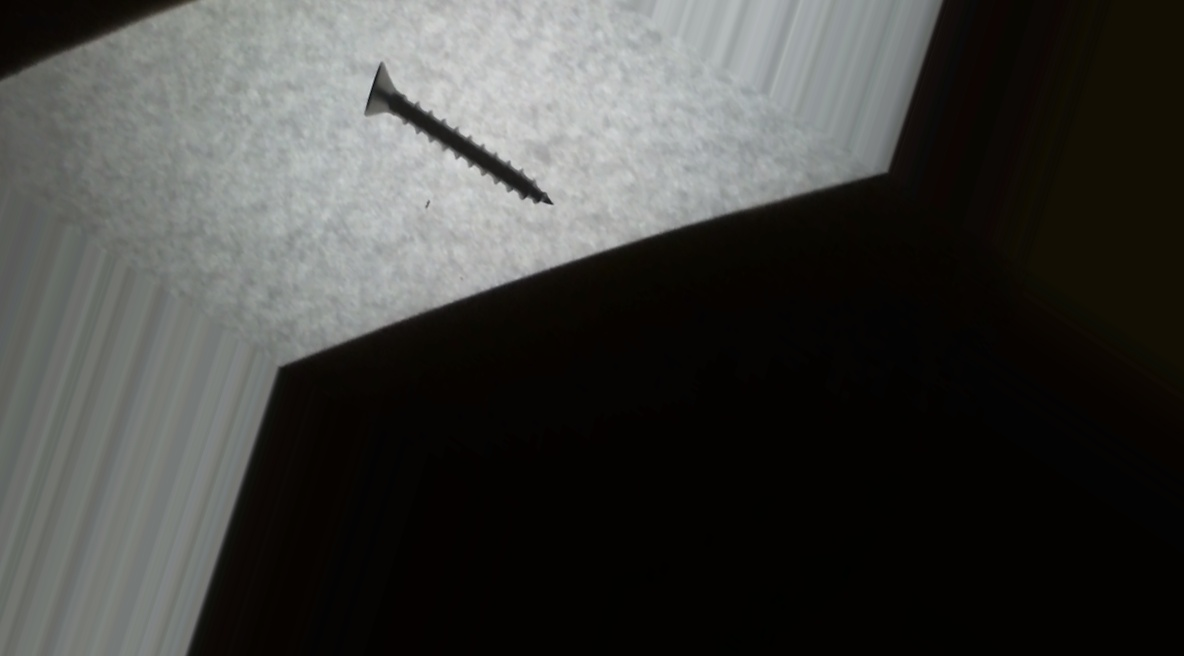S001: (343, 41, 570, 247)
